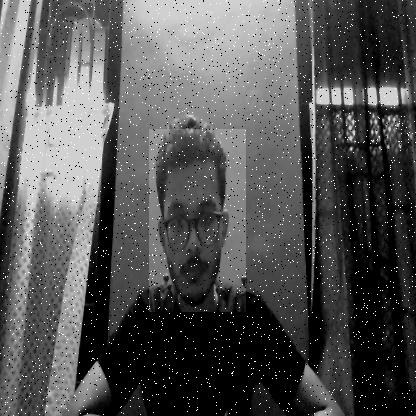Normal: (149, 129, 246, 312)
